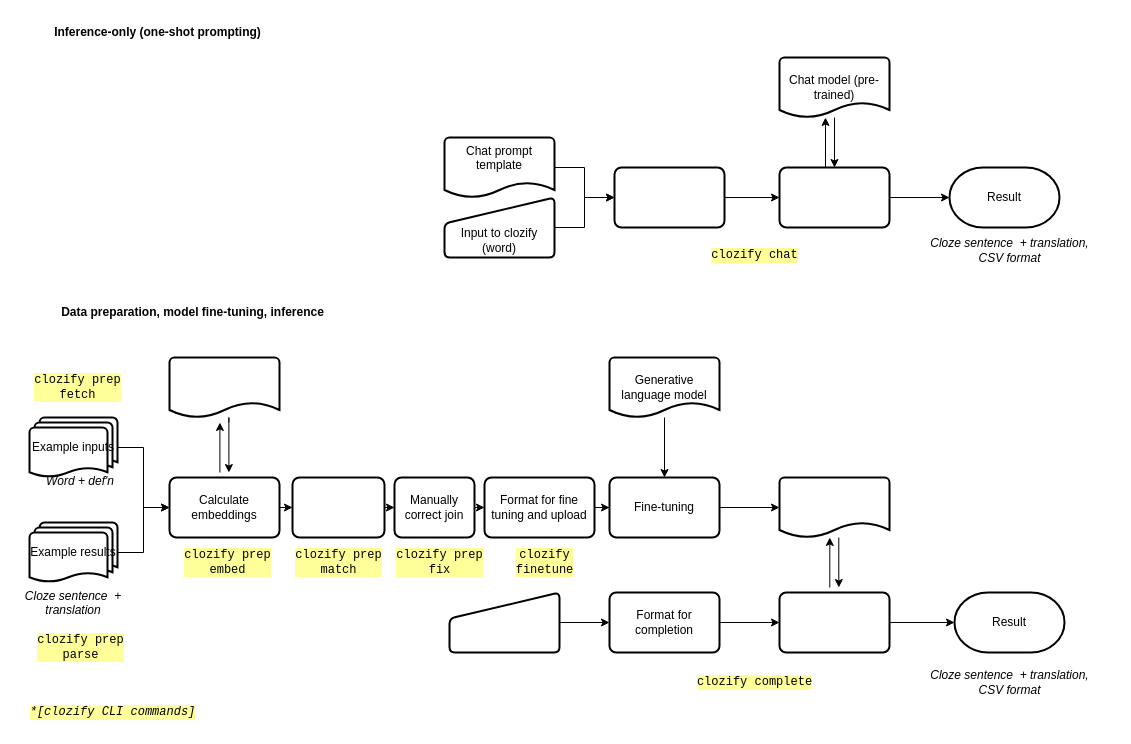
The diagram is 1131 pixels wide and 744 high, and some of its shapes have lost their labels. The box of each missing label's shape, as (x1, y1, x2, y2) in pixels:
Compute candidate input-result join: (291, 476, 385, 538)
Create chat prompt from input and template: (613, 166, 725, 228)
Embedding model: (168, 356, 280, 418)
Fine-tuned model: (778, 476, 890, 538)
Input to clozify (word + def'n): (448, 591, 560, 653)
Request ChatCompletion: (778, 166, 890, 228)
Request completion: (778, 591, 890, 653)
